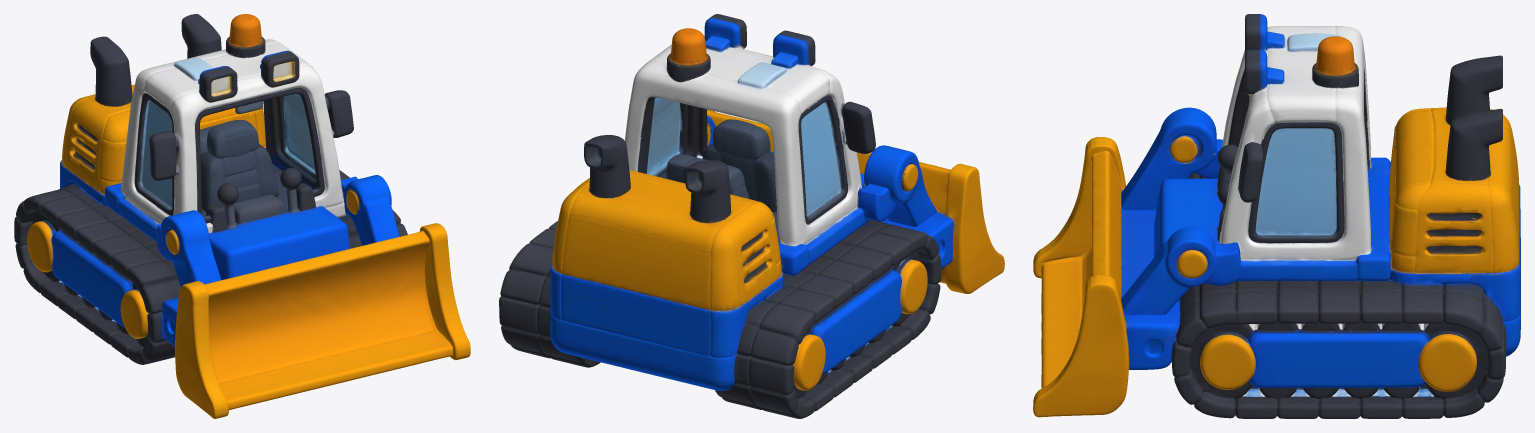
The model's file is supplied-bulldozer.glb.
3 renders of one model, left to right at view 1: azimuth 30°, elevation 25°; view 2: azimuth 150°, elevation 25°; view 3: azimuth 270°, elevation 25°, orthographic. The views are drawn at different scales.
Visible parts, largest first — view 1: tripo_part_1, tripo_part_0, tripo_part_2, tripo_part_6, tripo_part_15, tripo_part_28, tripo_part_8, tripo_part_27, tripo_part_26, tripo_part_12, tripo_part_23, tripo_part_31 (+23 smaller); view 2: tripo_part_0, tripo_part_17, tripo_part_7, tripo_part_2, tripo_part_28, tripo_part_8, tripo_part_27, tripo_part_31, tripo_part_71, tripo_part_12, tripo_part_6, tripo_part_23 (+27 smaller); view 3: tripo_part_0, tripo_part_19, tripo_part_30, tripo_part_18, tripo_part_1, tripo_part_26, tripo_part_3, tripo_part_12, tripo_part_44, tripo_part_13, tripo_part_35, tripo_part_16 (+30 smaller).
Boxes of the visible parts, x1,y1,x2,y2 form: tripo_part_1: (205, 231, 452, 410); tripo_part_0: (105, 39, 347, 241); tripo_part_2: (40, 196, 349, 279); tripo_part_6: (200, 120, 278, 211); tripo_part_15: (201, 167, 348, 266); tripo_part_28: (175, 281, 228, 418); tripo_part_8: (23, 263, 174, 364); tripo_part_27: (51, 229, 133, 333); tripo_part_26: (419, 223, 470, 360); tripo_part_12: (156, 210, 221, 286); tripo_part_23: (65, 97, 130, 189); tripo_part_31: (134, 93, 174, 215); tripo_part_0: (625, 45, 870, 275); tripo_part_17: (636, 209, 748, 390); tripo_part_7: (549, 296, 702, 385); tripo_part_2: (778, 228, 911, 324); tripo_part_28: (944, 163, 1004, 293); tripo_part_8: (760, 238, 941, 418); tripo_part_27: (810, 269, 901, 375); tripo_part_31: (798, 95, 848, 224); tripo_part_71: (559, 251, 653, 323); tripo_part_12: (857, 145, 937, 227); tripo_part_6: (702, 119, 777, 212); tripo_part_23: (714, 201, 776, 304); tripo_part_0: (1219, 25, 1391, 281); tripo_part_19: (1359, 144, 1502, 324); tripo_part_30: (1247, 121, 1344, 243); tripo_part_18: (1248, 321, 1428, 387); tripo_part_1: (1041, 151, 1121, 388); tripo_part_26: (1033, 275, 1129, 417); tripo_part_3: (1174, 363, 1484, 418); tripo_part_12: (1120, 107, 1222, 210); tripo_part_44: (1458, 143, 1520, 321); tripo_part_13: (1121, 226, 1216, 315); tripo_part_35: (1418, 321, 1487, 399); tripo_part_16: (1190, 324, 1255, 399).
Bounding box in the file's own units: 0.7205 × 0.715 × 0.9797.
Materials: 90 (90 with a texture image).
